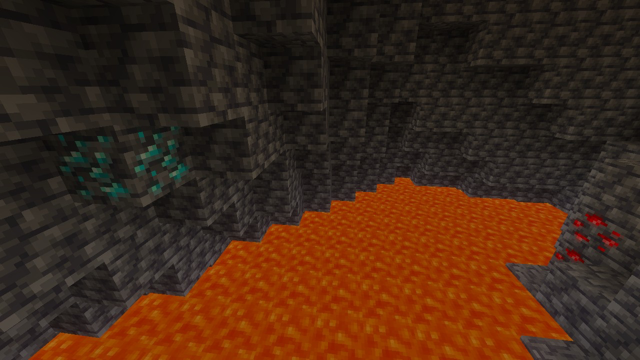diamond: (42, 120, 198, 210)
redstone: (547, 205, 624, 277)
